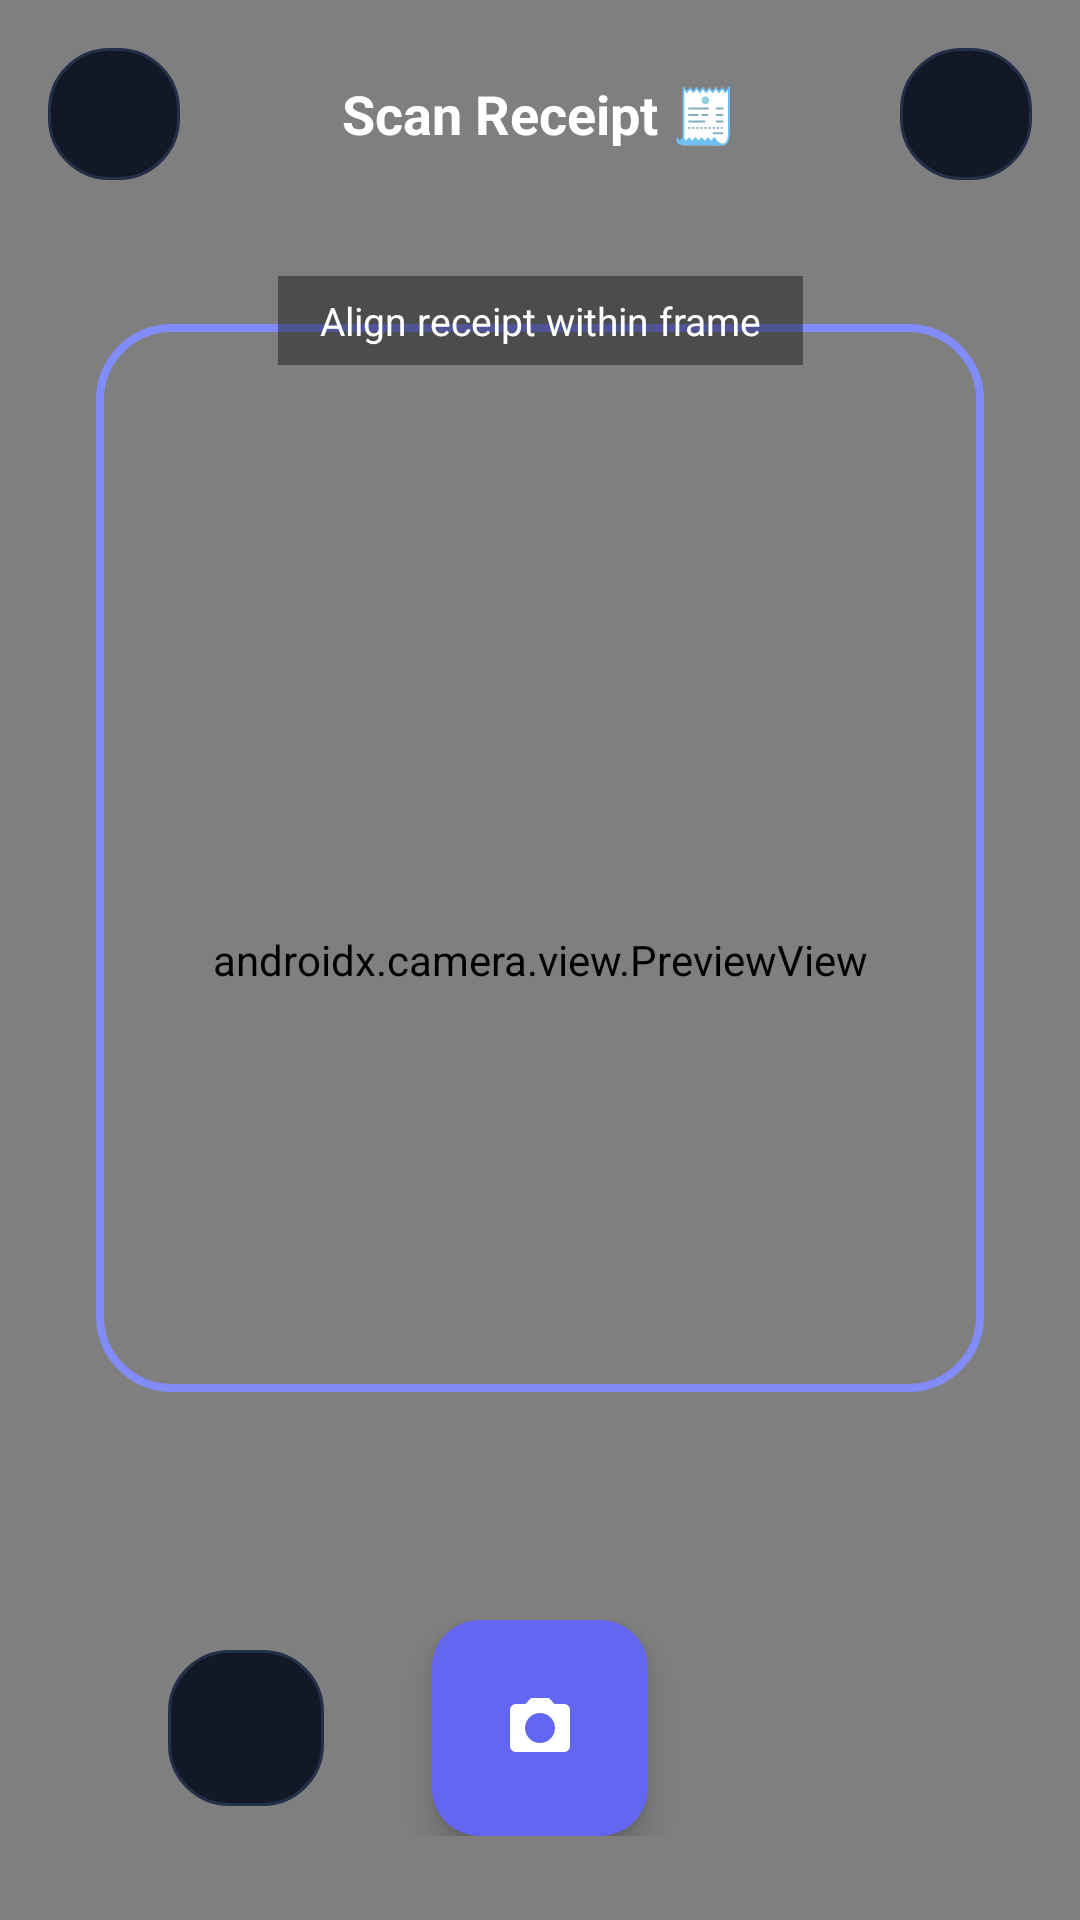

Named icons in this screenshot (1080×1920) and their centers, [x,y]:
Capture Receipt: [540,1728]
